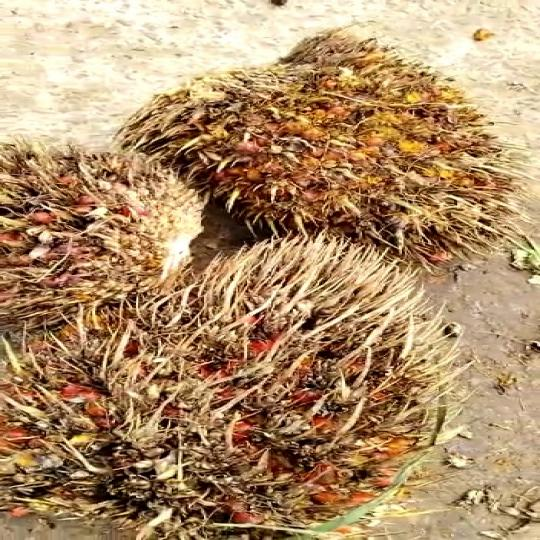terlalu masak: (94, 224, 447, 532), (119, 28, 531, 256)
